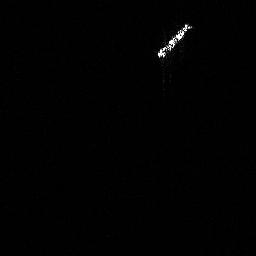ship: (154, 19, 194, 61)
